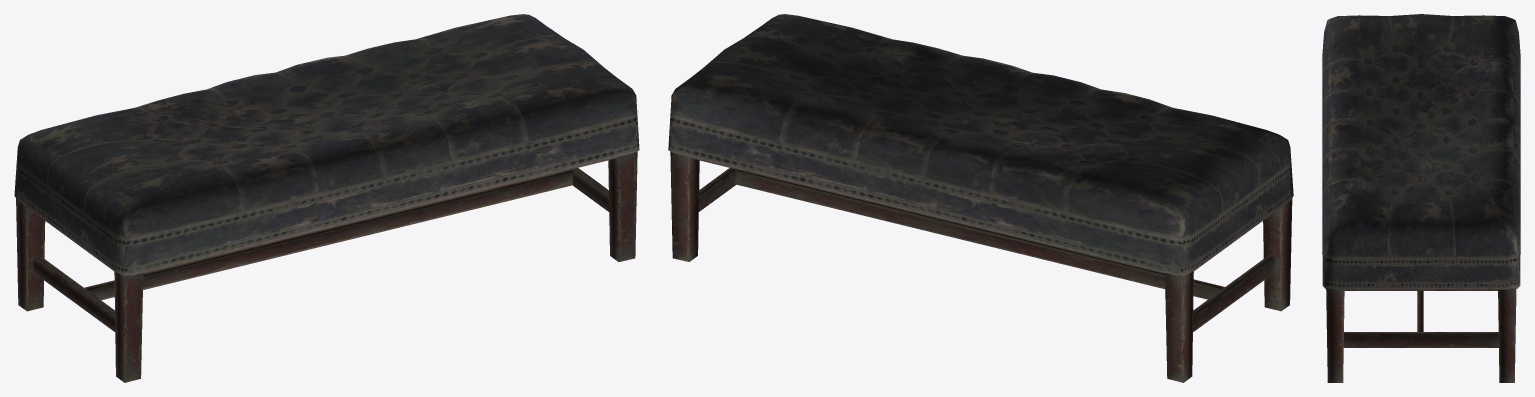
Rendered from bench.fbx.
The picture shows the model from 3 angles, left to right: view 1: azimuth 30°, elevation 25°; view 2: azimuth 150°, elevation 25°; view 3: azimuth 270°, elevation 25°; orthographic projection. The views are drawn at different scales.
Visible parts, largest first — view 1: Asylum_Bench01_8; view 2: Asylum_Bench01_8; view 3: Asylum_Bench01_8.
Boxes of the visible parts, left/top/right/bottom form: Asylum_Bench01_8: left=14, top=14, right=639, bottom=382; Asylum_Bench01_8: left=668, top=14, right=1293, bottom=382; Asylum_Bench01_8: left=1322, top=14, right=1520, bottom=382.
Size of the model in its own units: 10414 by 3430 by 3909.
